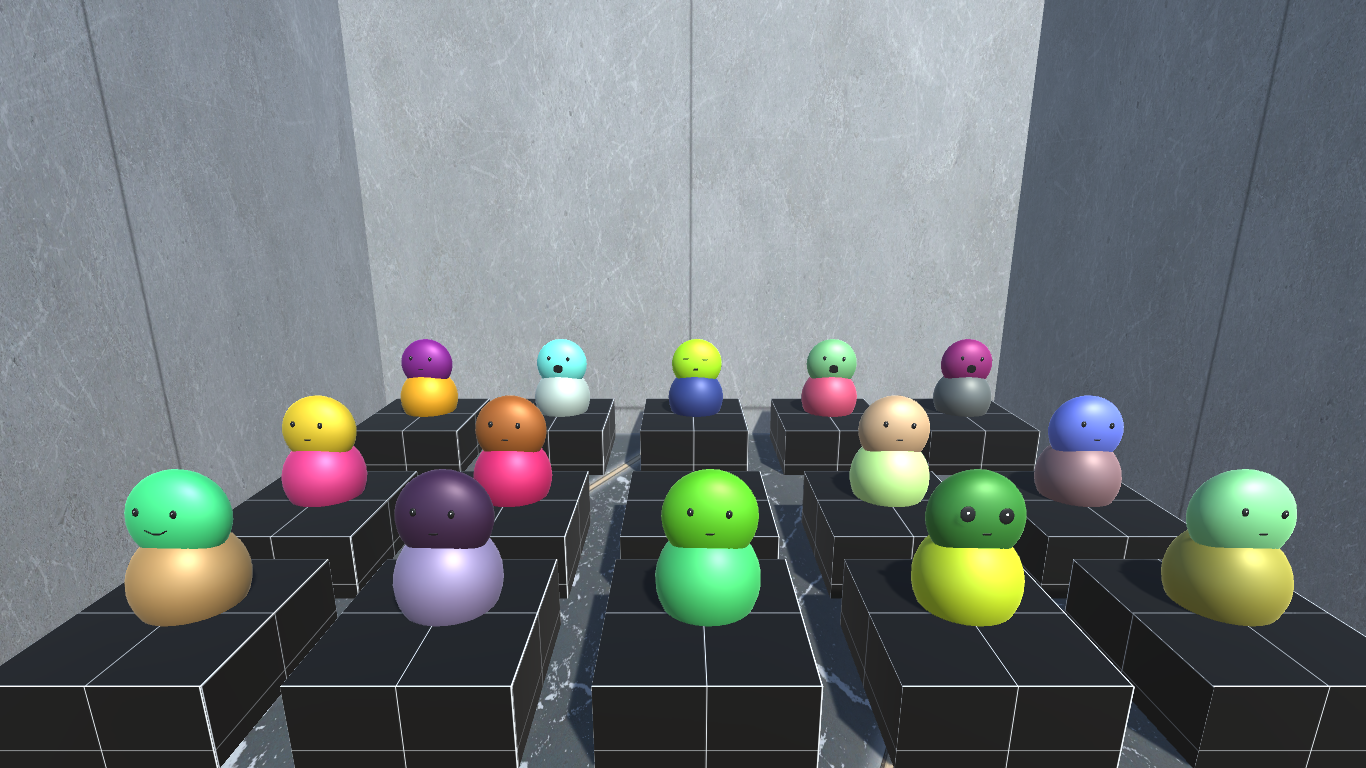blob_atento: (903, 468, 1033, 625)
blob_dormindo: (665, 338, 729, 422)
blob_feliz: (120, 462, 267, 632)
blob_normal: (1155, 461, 1305, 631), (644, 470, 766, 632), (380, 473, 513, 609), (1038, 391, 1128, 518), (459, 393, 553, 509), (280, 388, 368, 510), (846, 395, 929, 514), (395, 333, 460, 420)
blob_surpreso: (935, 337, 1000, 429), (800, 339, 865, 428), (535, 331, 596, 422)
